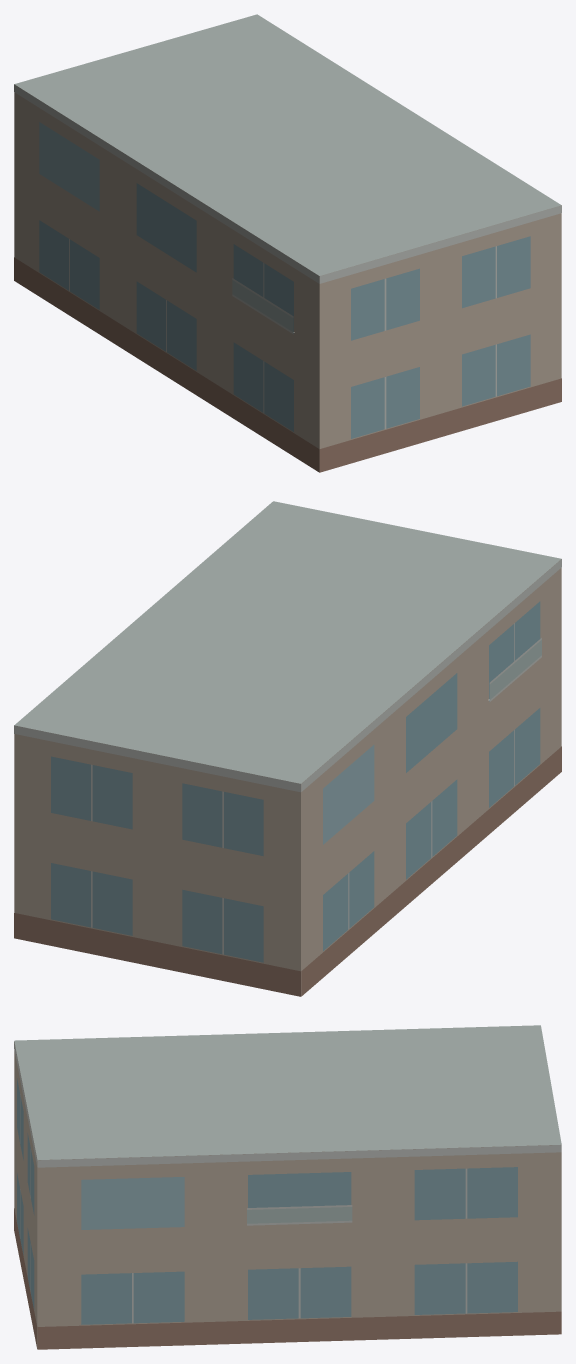
The model's file is survey-upis-32669287.glb.
3 views of the same model, one above another, from view 1: azimuth 30°, elevation 25°; view 2: azimuth 150°, elevation 25°; view 3: azimuth 270°, elevation 25° (orthographic). The views are drawn at different scales.
Visible parts, largest first — view 1: survey-upis-32669287.tmp; view 2: survey-upis-32669287.tmp; view 3: survey-upis-32669287.tmp.
Part boxes in pixels (<box>): survey-upis-32669287.tmp: <box>14,14,561,472</box>; survey-upis-32669287.tmp: <box>14,501,561,996</box>; survey-upis-32669287.tmp: <box>14,1025,561,1349</box>.
Size of the model in its own units: 9.32 by 6.1 by 15.99.
